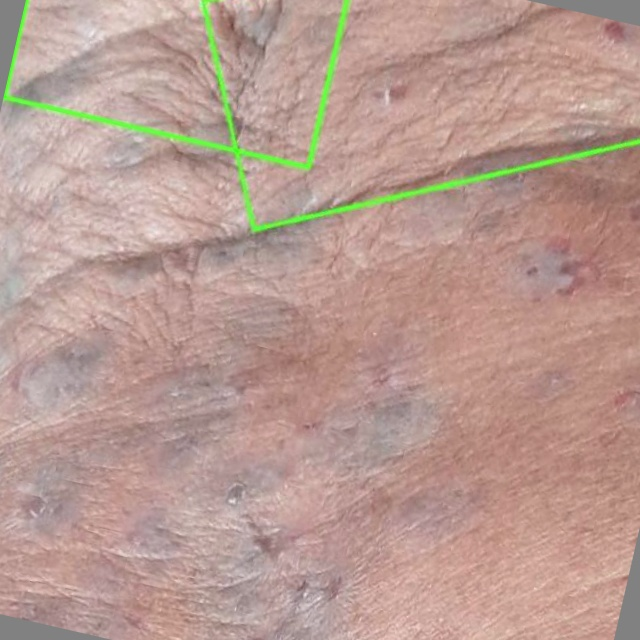Contact Dermatitis: (197, 0, 639, 228), (4, 0, 347, 167)
